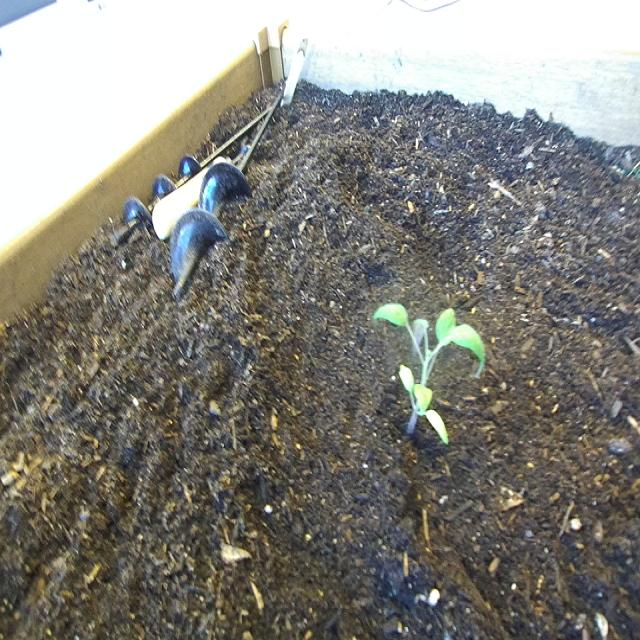Healthy: (359, 274, 489, 474)
